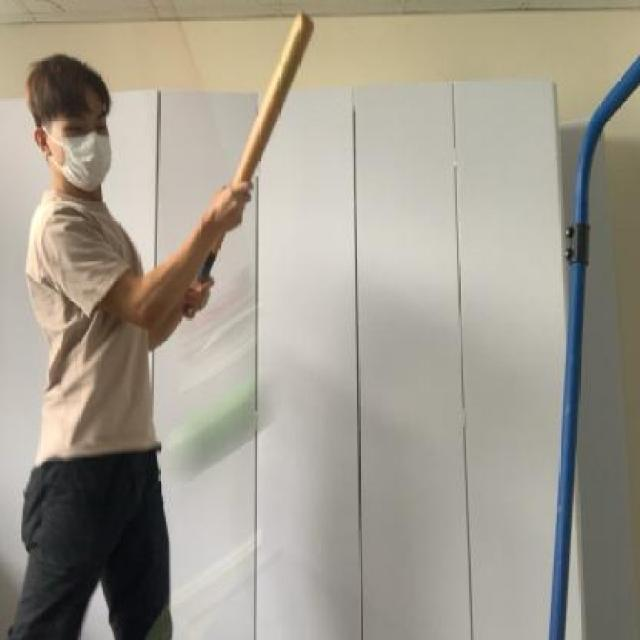baseball: (156, 374, 295, 491)
